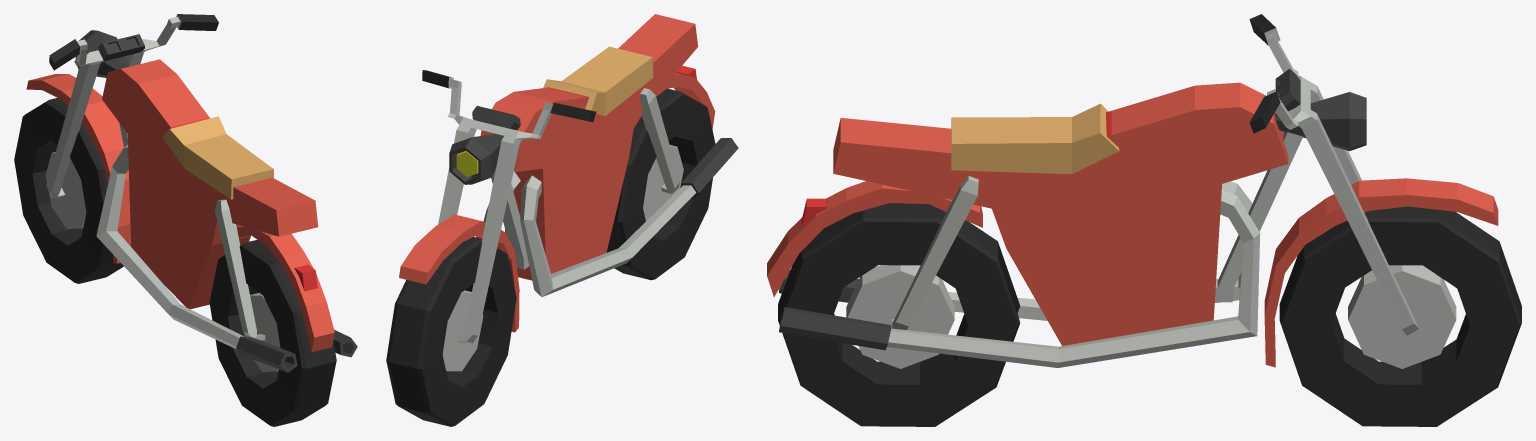
Rendered from bike.glb.
3 views of the same model, side by side, from view 1: azimuth 30°, elevation 25°; view 2: azimuth 150°, elevation 25°; view 3: azimuth 270°, elevation 25° (orthographic). The views are drawn at different scales.
Parts seen in each view (by area): view 1: Front; view 2: Front; view 3: Front.
Part boxes in pixels (box(x1,y1,x2,y2)): Front: box(14, 14, 357, 426); Front: box(386, 14, 738, 426); Front: box(767, 14, 1521, 426).
Bounding box in the file's own units: 1.52 × 2.47 × 4.71.
